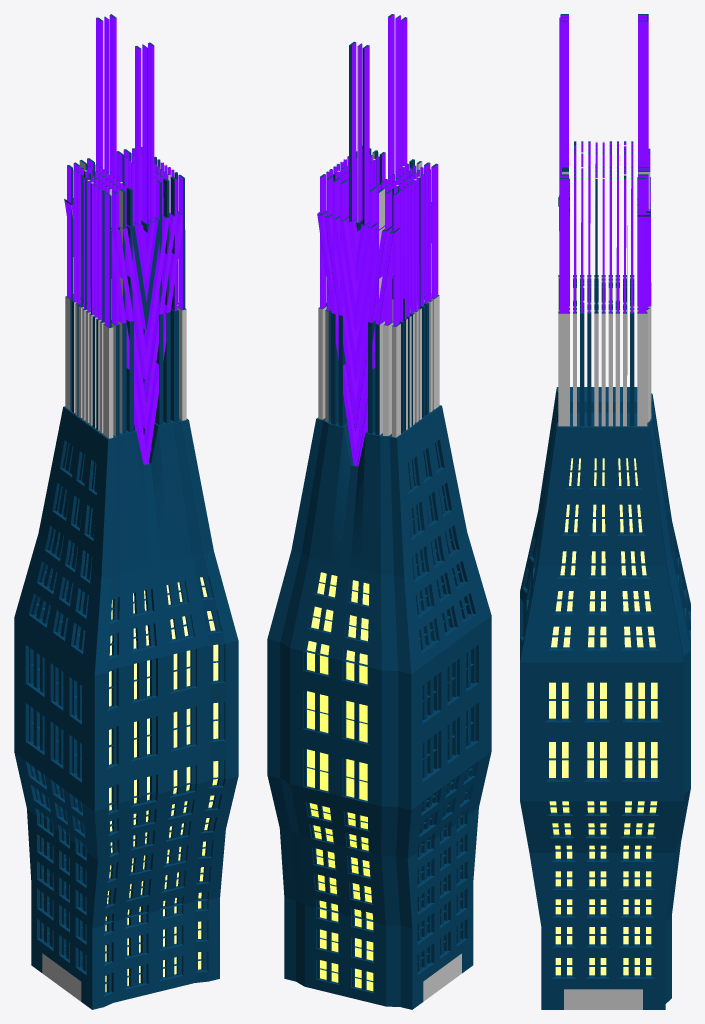
Rendered from the_jewel.fbx.
The picture shows the model from 3 angles, left to right: view 1: azimuth 30°, elevation 25°; view 2: azimuth 150°, elevation 25°; view 3: azimuth 270°, elevation 25°; orthographic projection. The views are drawn at different scales.
Visible parts, largest first — view 1: Plane.014; view 2: Plane.014; view 3: Plane.014.
Boxes of the visible parts, x1,y1,x2,y2 form: Plane.014: [14, 14, 238, 1009]; Plane.014: [267, 14, 491, 1009]; Plane.014: [520, 14, 690, 1009].
Bounding box in the file's own units: 425 × 2652 × 428.
